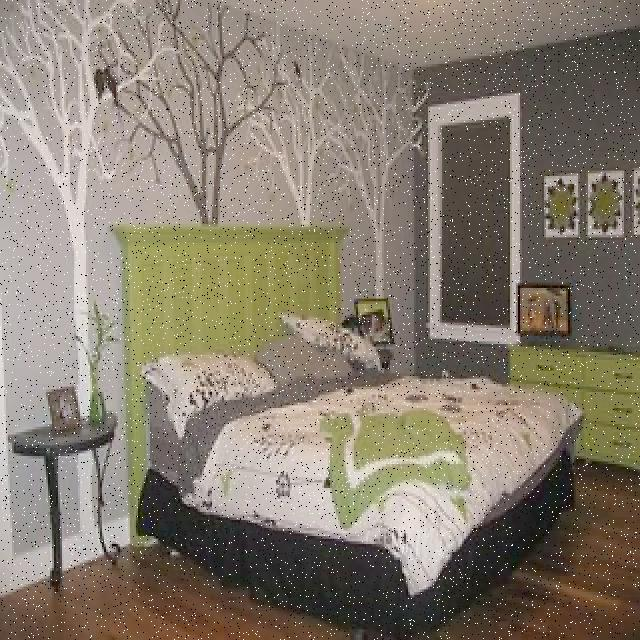bed: (135, 305, 588, 599)
